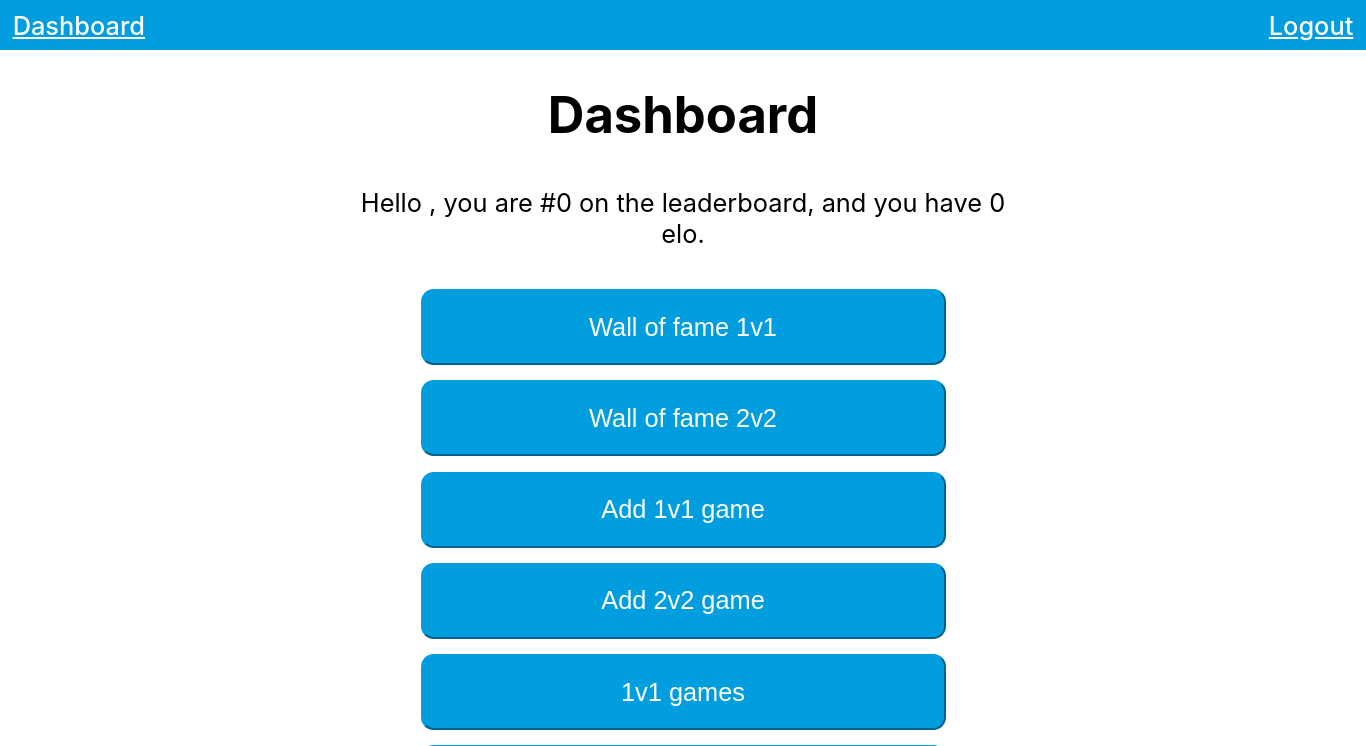
Test: renders the wall of fame
What coordinates should you click on to do the following:
click the button "Wall of fame 1v1"
I would click on:
 (683, 327)
Its box is [420,289,946,365].
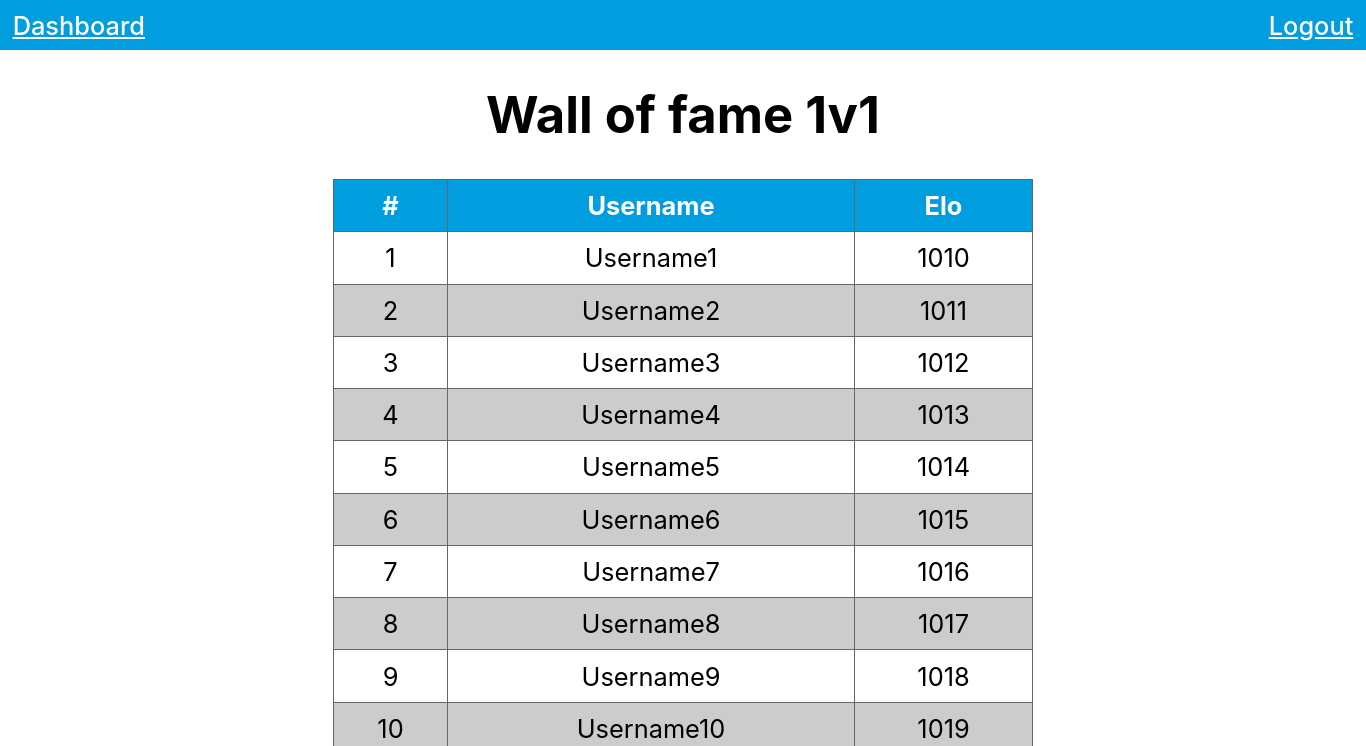
Expected: the heading "Wall of fame 1v1" is shown, [333,84,1033,145]
